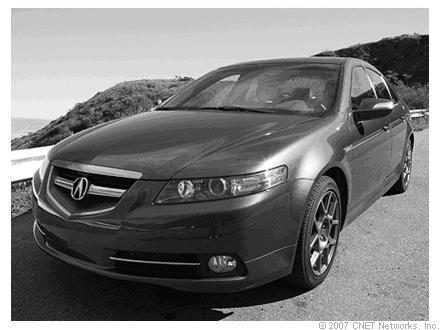car: (30, 56, 418, 301)
